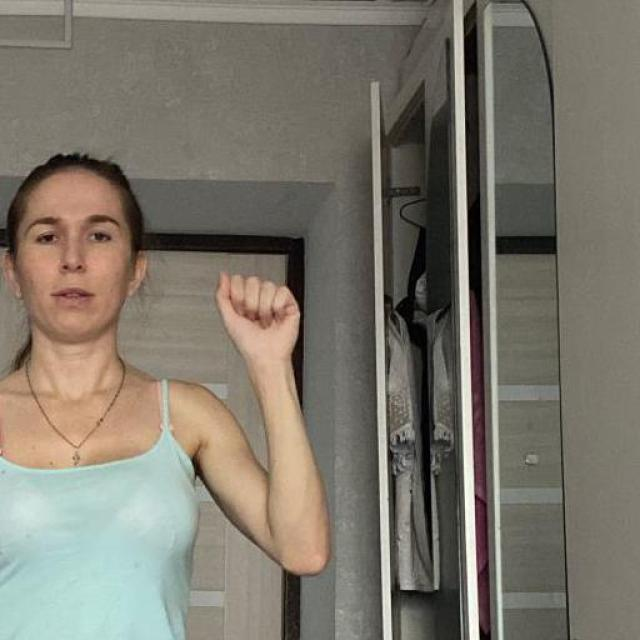hand: (215, 268, 303, 362)
